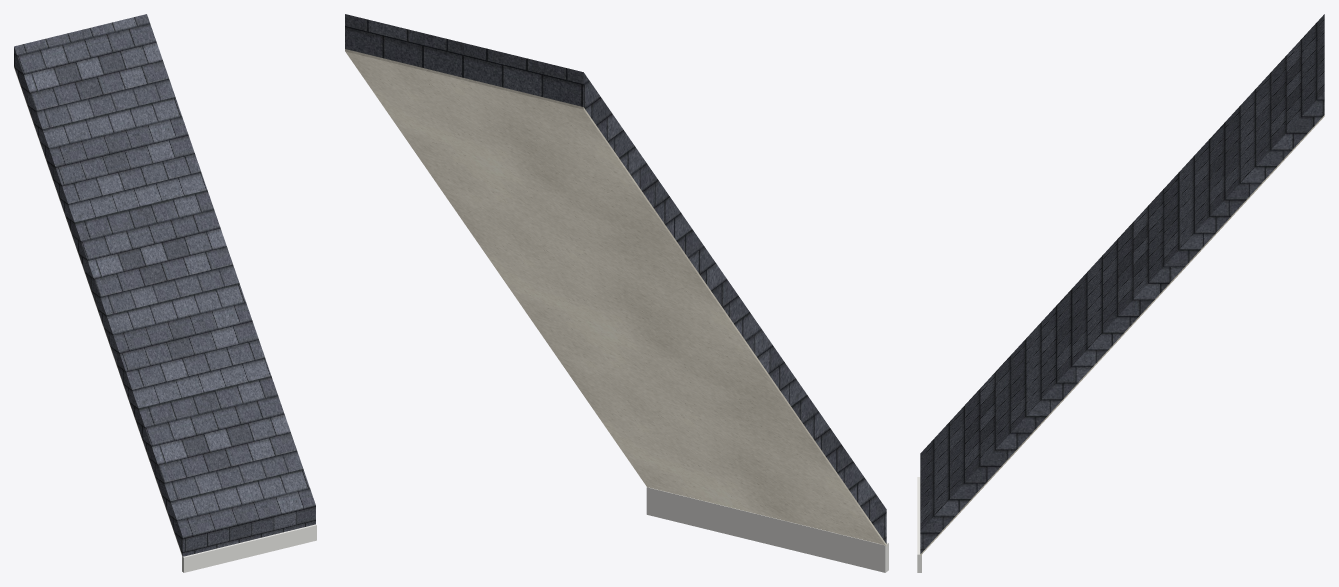
Rendered from roof_slope.glb.
The picture shows the model from 3 angles, left to right: view 1: azimuth 30°, elevation 25°; view 2: azimuth 150°, elevation 25°; view 3: azimuth 270°, elevation 25°; orthographic projection. The views are drawn at different scales.
Parts seen in each view (by area): view 1: roof_slope_shingles, roof_slope_trim, roof_slope_plaster; view 2: roof_slope_plaster, roof_slope_shingles, roof_slope_trim; view 3: roof_slope_shingles, roof_slope_plaster.
Boxes of the visible parts, box(x1,y1,x2,y2) form: roof_slope_shingles: box(14, 14, 315, 556); roof_slope_trim: box(182, 524, 316, 572); roof_slope_plaster: box(14, 66, 182, 556); roof_slope_plaster: box(345, 49, 886, 546); roof_slope_shingles: box(345, 14, 886, 543); roof_slope_trim: box(646, 487, 888, 572); roof_slope_shingles: box(920, 14, 1324, 553); roof_slope_plaster: box(920, 115, 1324, 555).
Size of the model in its own units: 2 by 5.78 by 4.43.
Materials: 3 (2 with a texture image).
